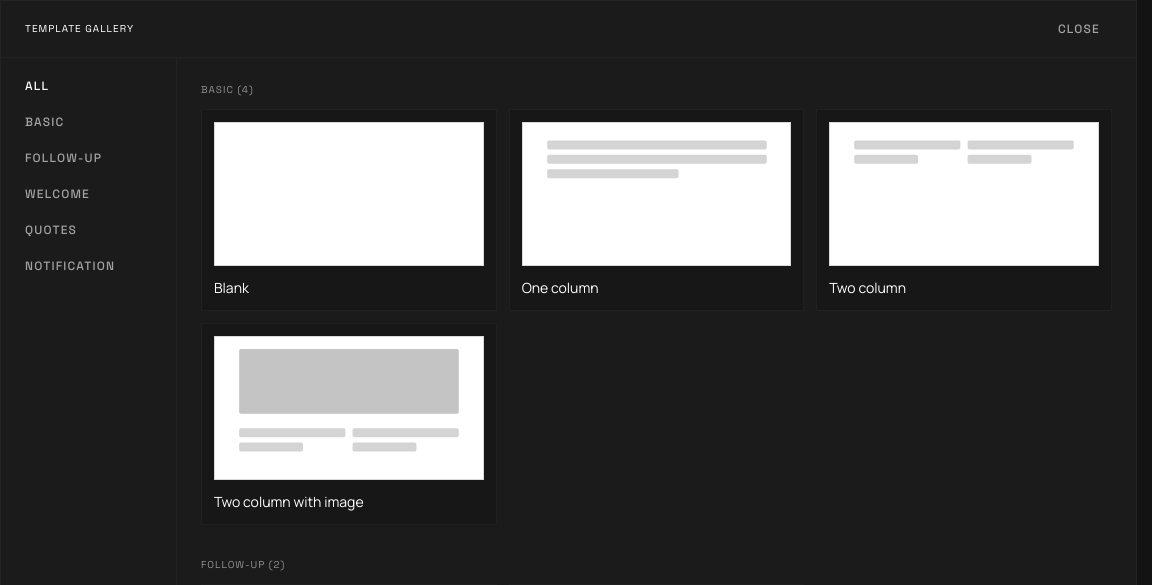
Scenario: EmailTemplateGallery › filters starters when a category is selected
Click the button "Quotes" at [88, 230], box [13,214,164,246]
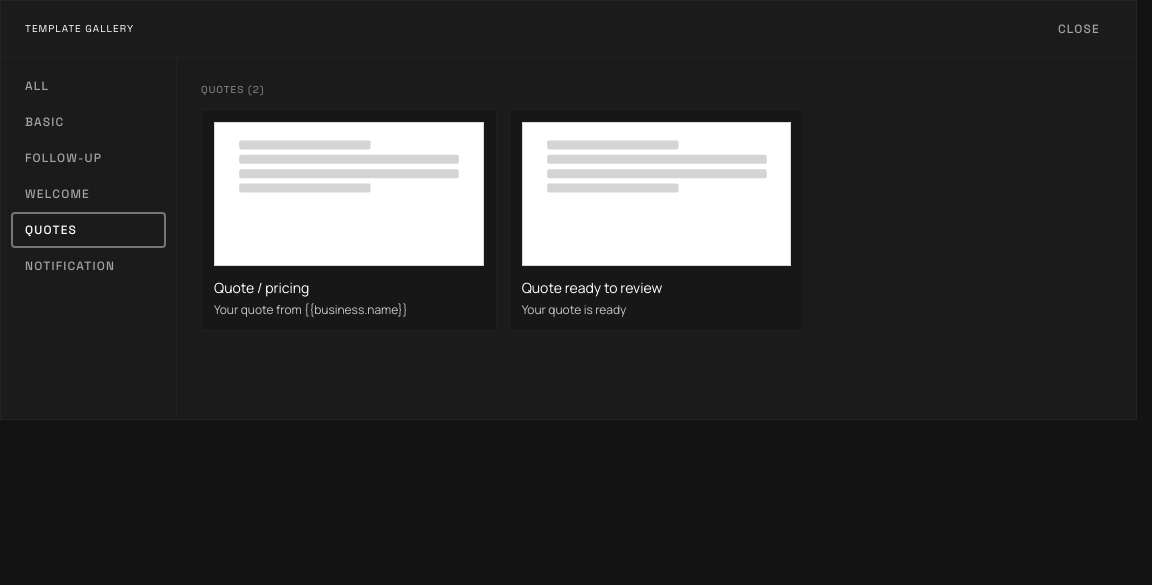
Expected: the button "Quote / pricing Your quote from {{business.name}}" is shown, [201,109,497,331]
Expected: the button "Blank" is gone
